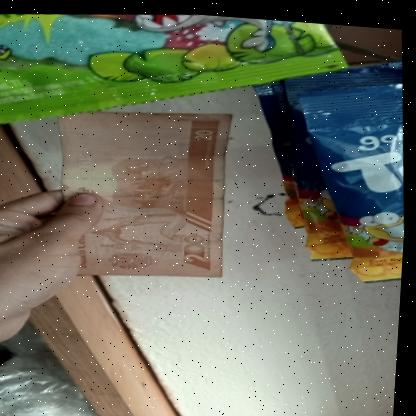twenty-back-vef: (51, 98, 244, 287)
